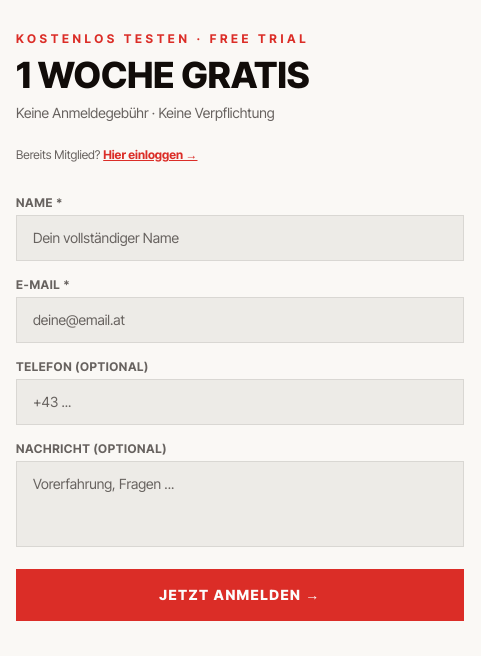
Test case: Trial signup page › shows error when server action fails
Step 1. Type "Max Mustermann" into the field labelled "Name *" → (240, 238), box [16,215,464,261]
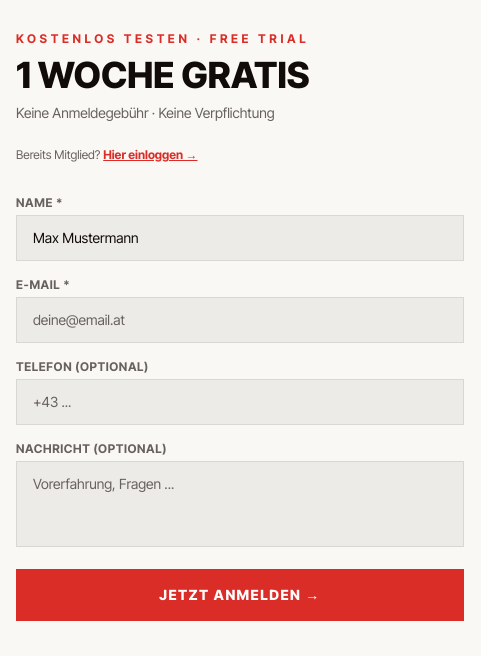
Step 2. Type "max@example.com" into the field labelled "E-Mail *" → (240, 320), box [16,297,464,343]
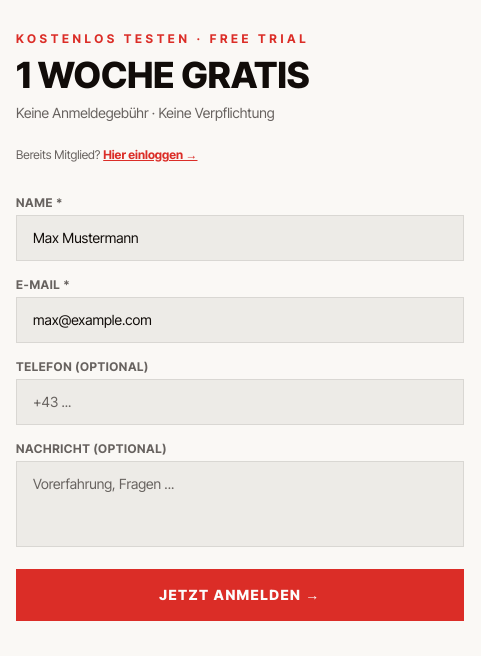
Step 3. Click the button "Jetzt Anmelden →" → (240, 595), box [16,569,464,621]
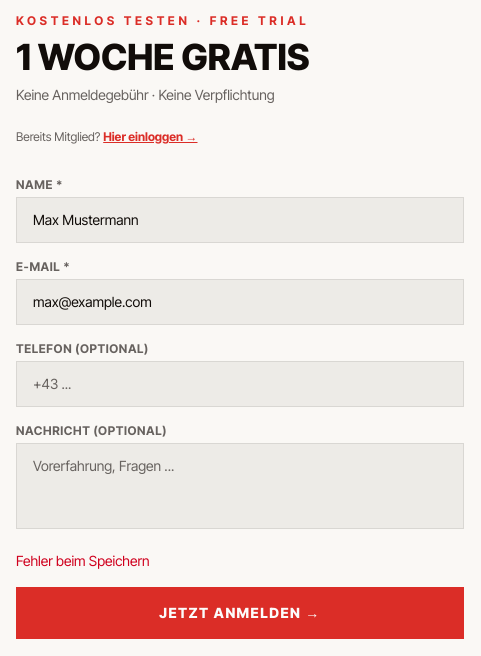
Expected: the text "Fehler beim Speichern" is shown, [16,552,150,569]
